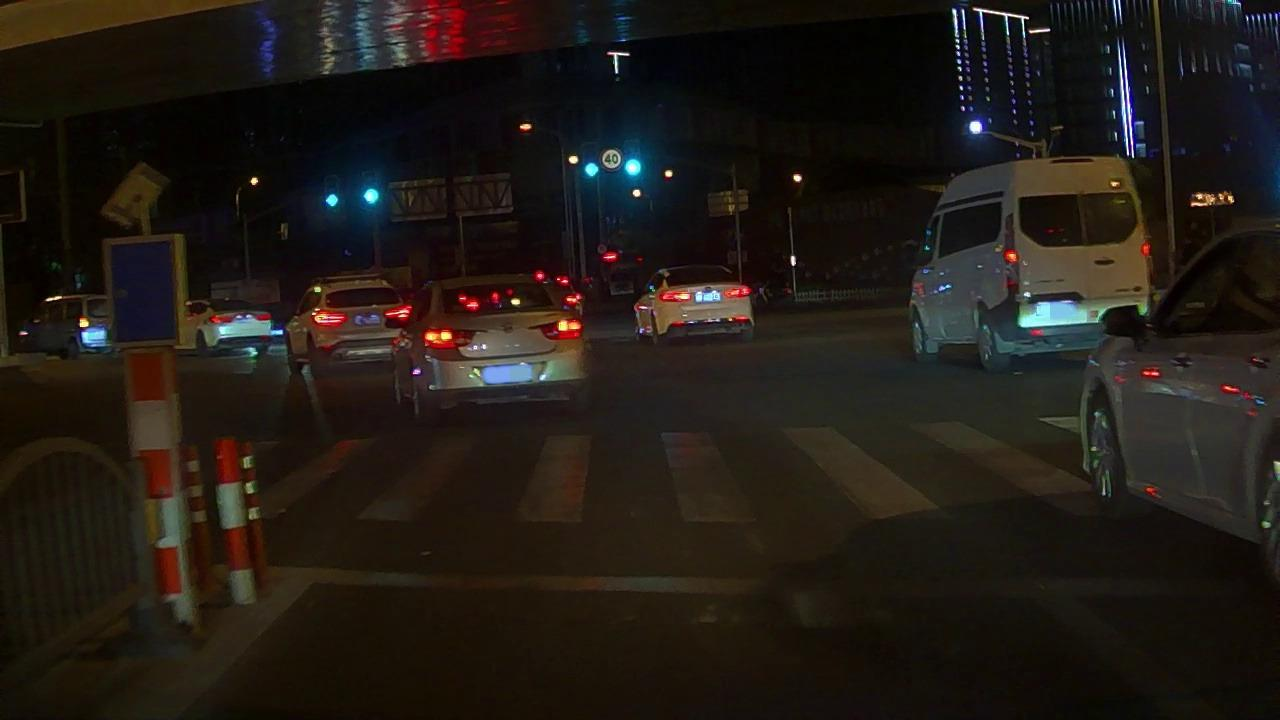traffic_light: (616, 151, 649, 184), (361, 184, 384, 211), (580, 157, 602, 185), (320, 188, 342, 210)
